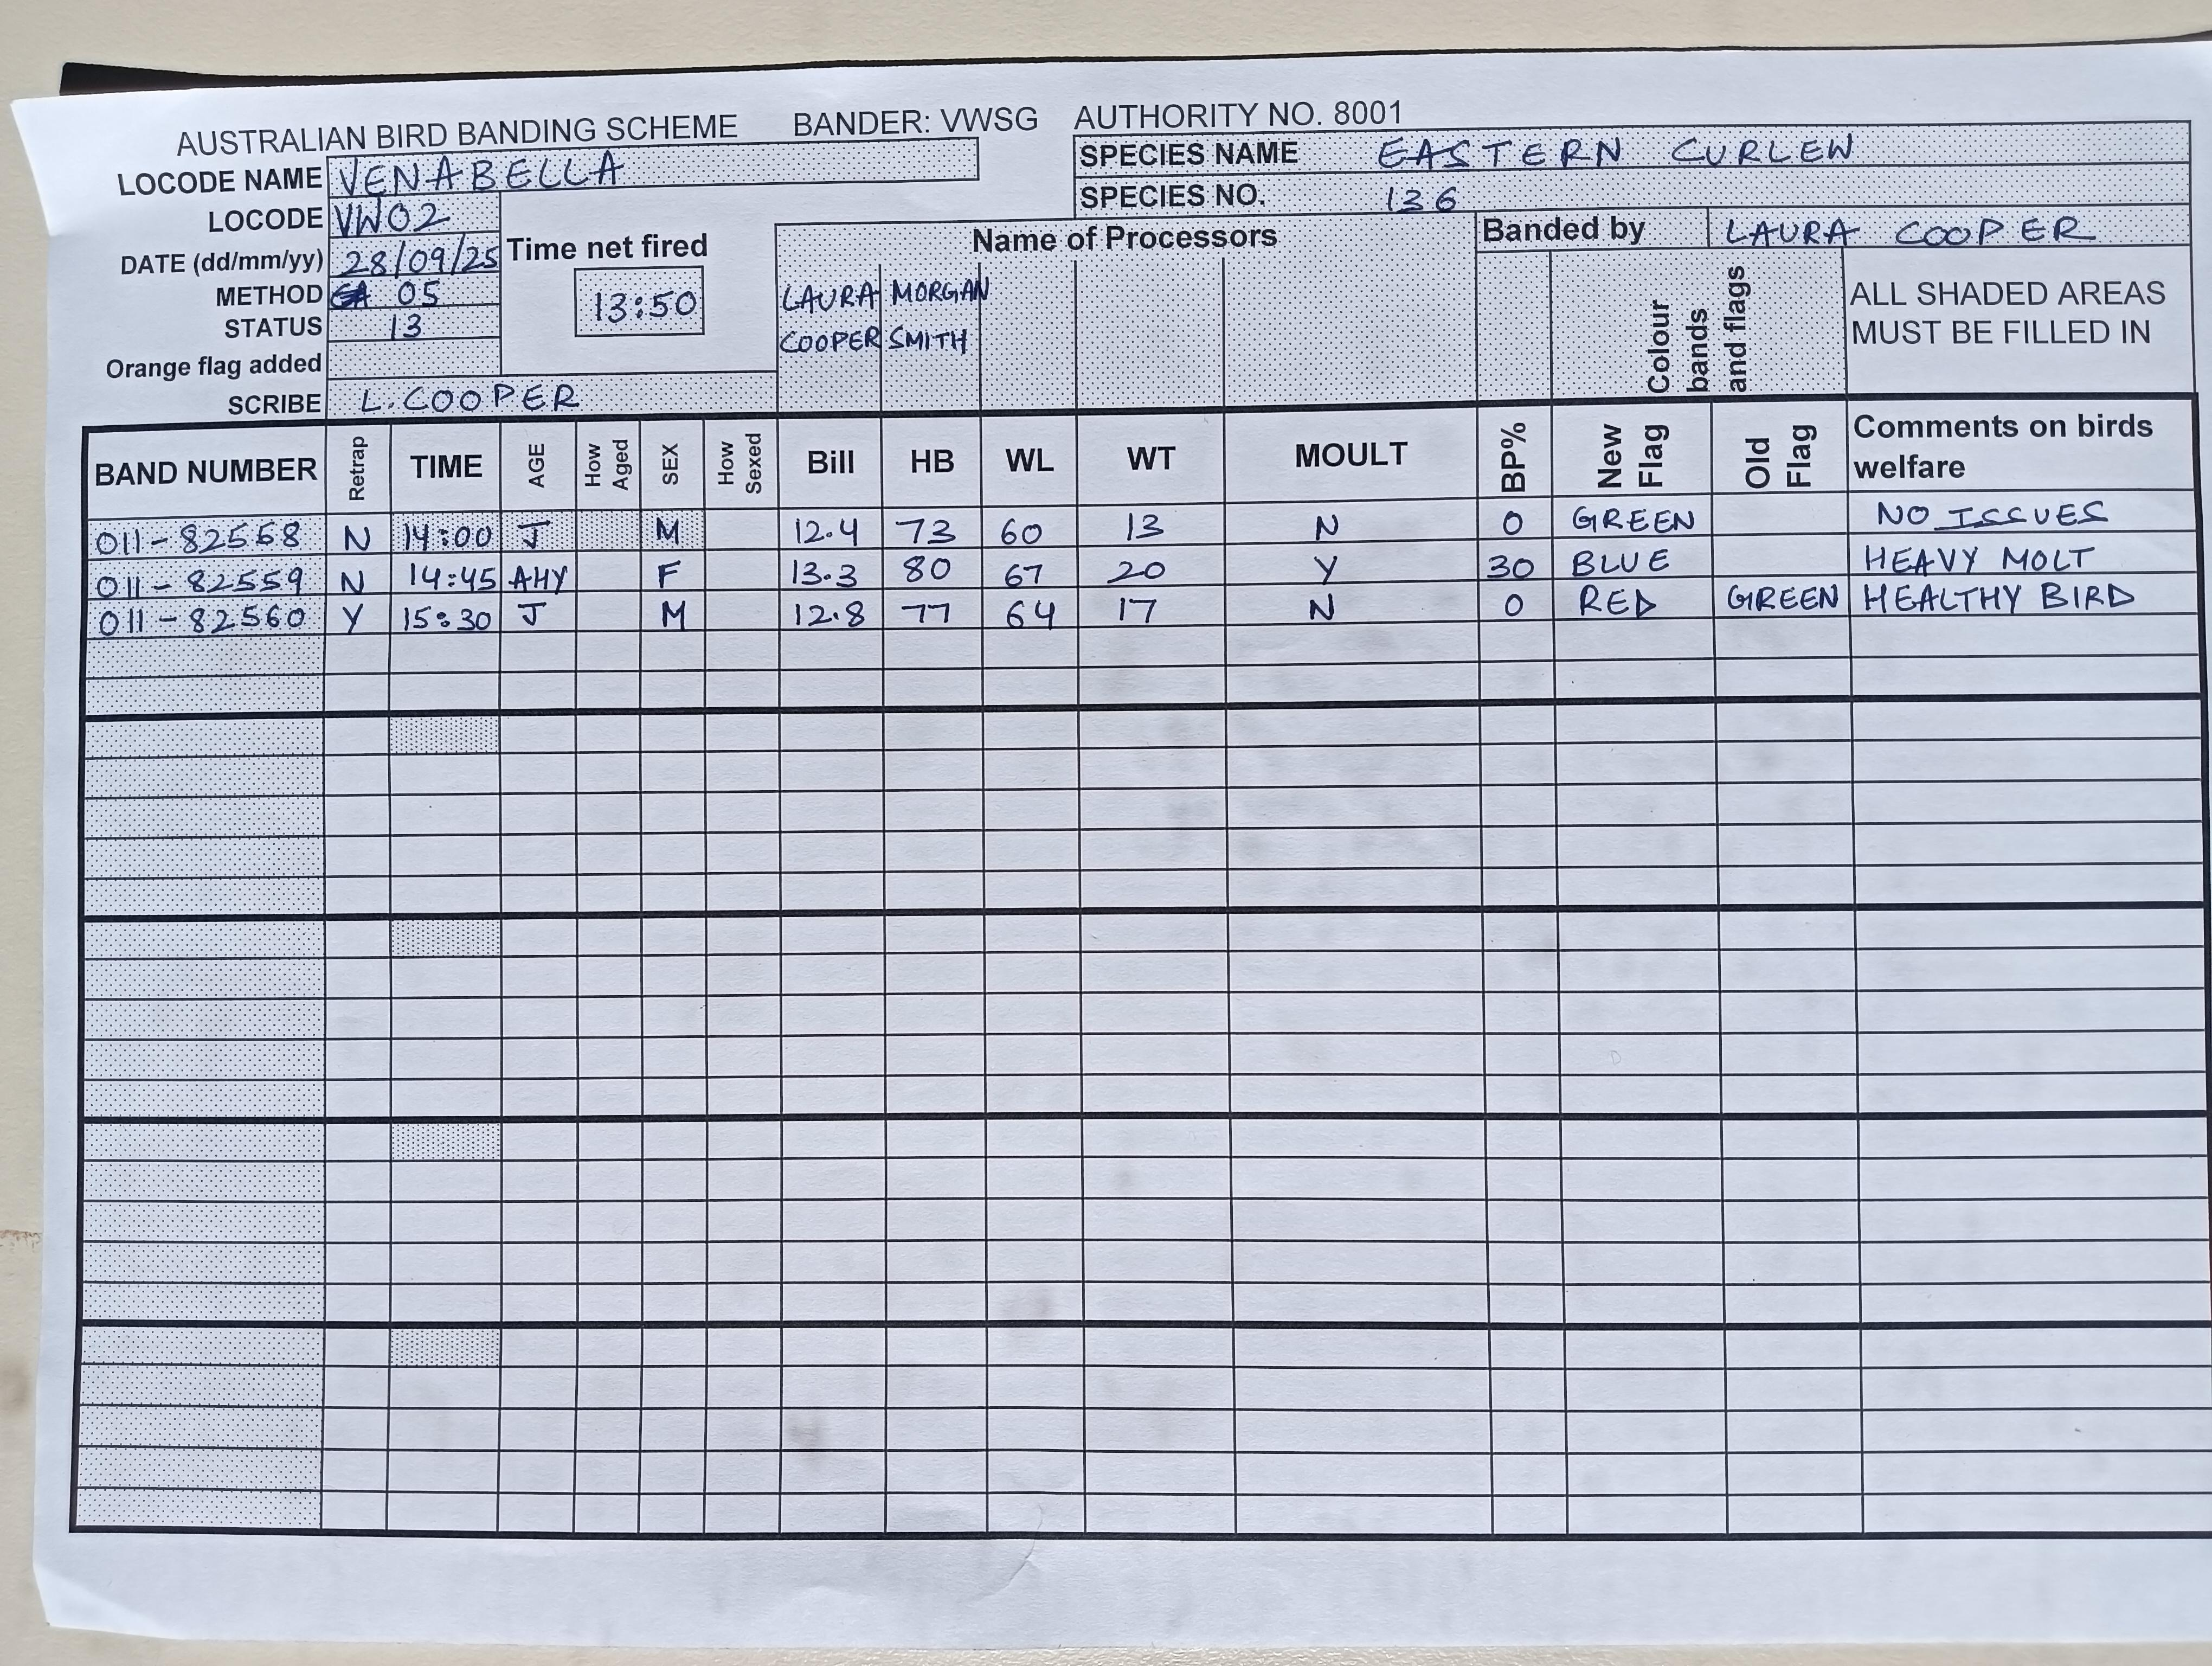BANDED_BY: (1472, 201, 2189, 256)
DATA: (79, 487, 2195, 556), (79, 569, 2202, 635), (80, 530, 2193, 595)
DATE: (107, 231, 509, 283)
LOCOCODE: (177, 187, 516, 243)
LOCOCODE_NAME: (101, 137, 983, 208)
METHOD: (198, 273, 525, 313)
NAME_OF_PROCESSORS: (880, 254, 988, 411), (778, 257, 883, 416)
ORANGE_FLAG_ADDED: (93, 334, 516, 389)
SCRIBE: (180, 367, 778, 424)
SPECIES_NAME: (1070, 121, 2191, 179)
SPECIES_NO: (1072, 163, 2191, 219)
STATUS: (201, 303, 518, 345)
TIME_NET_FIRED: (509, 224, 717, 354)
